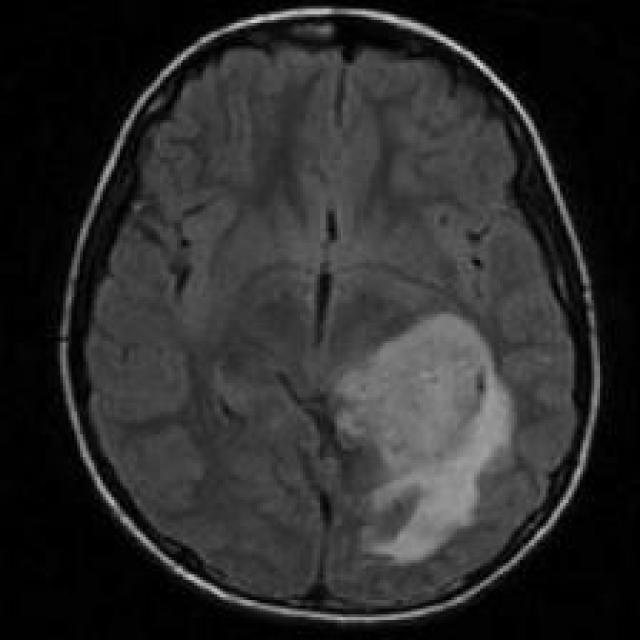Tumor: (323, 306, 523, 566)
